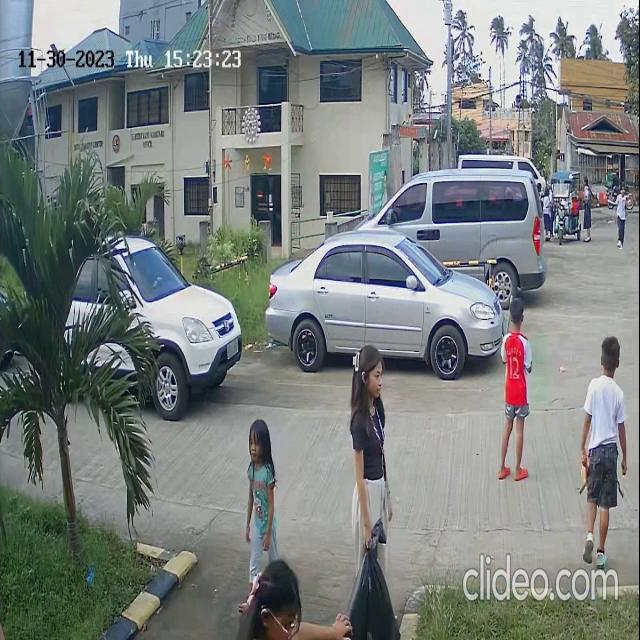person: (581, 312, 625, 558), (343, 338, 398, 519), (238, 412, 283, 560), (498, 296, 532, 487), (613, 179, 634, 249)
